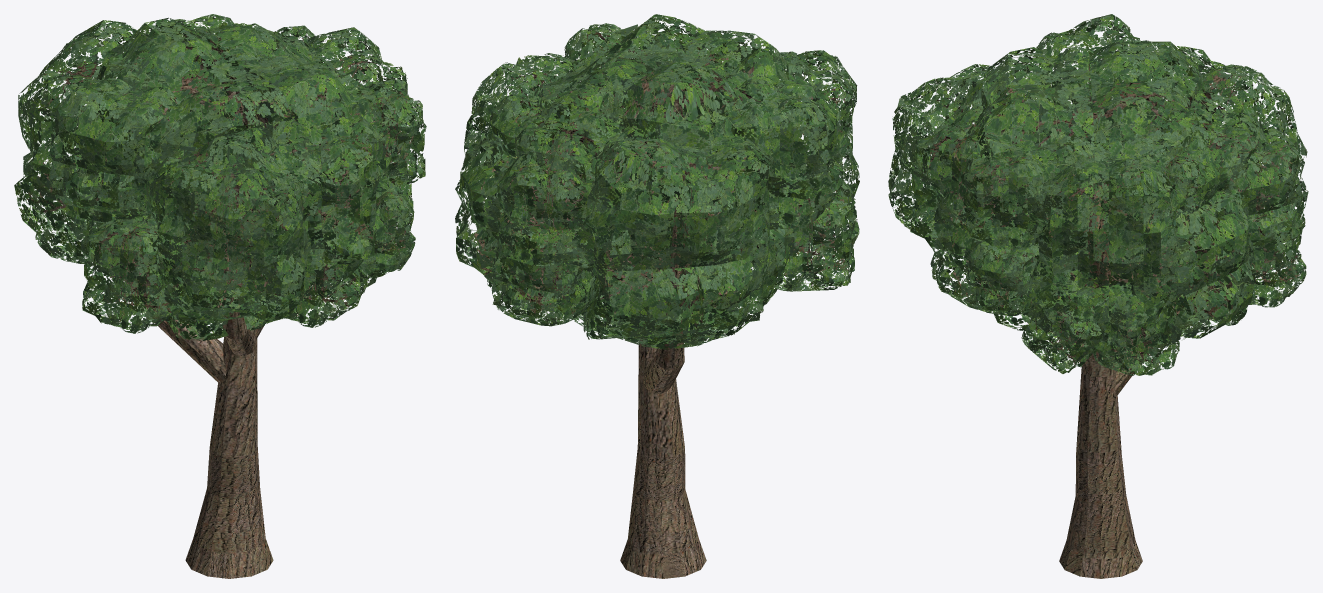
Rendered from DAEleaftree.dae.
3 renders of one model, left to right at view 1: azimuth 30°, elevation 25°; view 2: azimuth 150°, elevation 25°; view 3: azimuth 270°, elevation 25°, orthographic. The views are drawn at different scales.
Parts seen in each view (by area): view 1: Cylinder; view 2: Cylinder; view 3: Cylinder.
Boxes of the visible parts, x1,y1,x2,y2 form: Cylinder: (14, 14, 426, 578); Cylinder: (455, 14, 859, 578); Cylinder: (888, 14, 1308, 578).
Bounding box in the file's own units: 4.36 × 4.73 × 6.18.
Materials: 1 (1 with a texture image).
